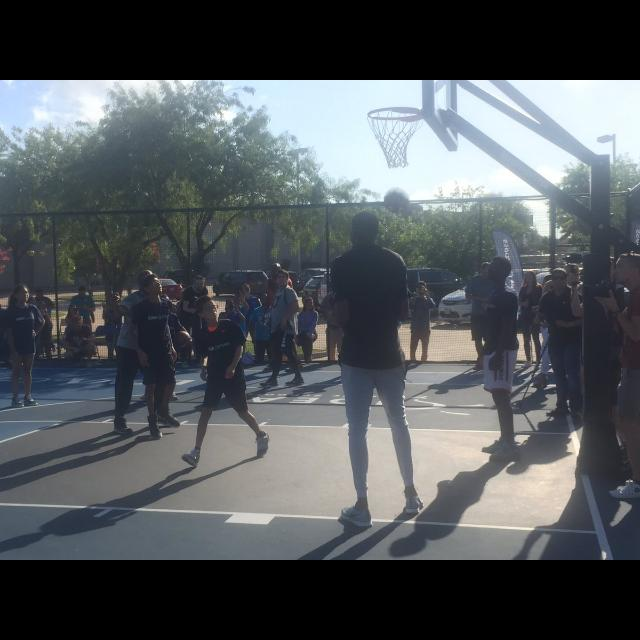head: (350, 210, 380, 243), (488, 256, 512, 282), (197, 298, 219, 322), (142, 274, 164, 296), (560, 264, 582, 284), (138, 271, 154, 293), (551, 268, 567, 290), (13, 284, 31, 302), (157, 294, 170, 312), (36, 300, 48, 316), (194, 276, 206, 292), (277, 272, 289, 286), (415, 282, 427, 296), (225, 300, 238, 312), (481, 263, 492, 277), (304, 298, 316, 310), (74, 316, 85, 328), (78, 286, 88, 298), (241, 284, 251, 296), (260, 294, 270, 306), (526, 271, 536, 283), (37, 290, 45, 302), (274, 264, 282, 274), (332, 284, 341, 292)
person: (326, 208, 428, 532), (178, 293, 272, 471), (468, 254, 524, 463), (106, 267, 170, 439), (124, 271, 182, 444), (531, 266, 593, 424), (140, 294, 194, 404), (258, 268, 306, 390), (4, 282, 48, 410), (552, 262, 590, 392), (464, 260, 504, 372), (178, 274, 212, 371), (516, 270, 546, 372), (216, 298, 248, 384), (407, 278, 437, 368), (264, 262, 296, 344), (321, 283, 351, 369), (234, 282, 262, 368), (248, 292, 276, 373), (67, 285, 96, 361), (59, 314, 97, 368), (29, 288, 56, 362), (294, 296, 320, 368), (32, 299, 54, 366)
